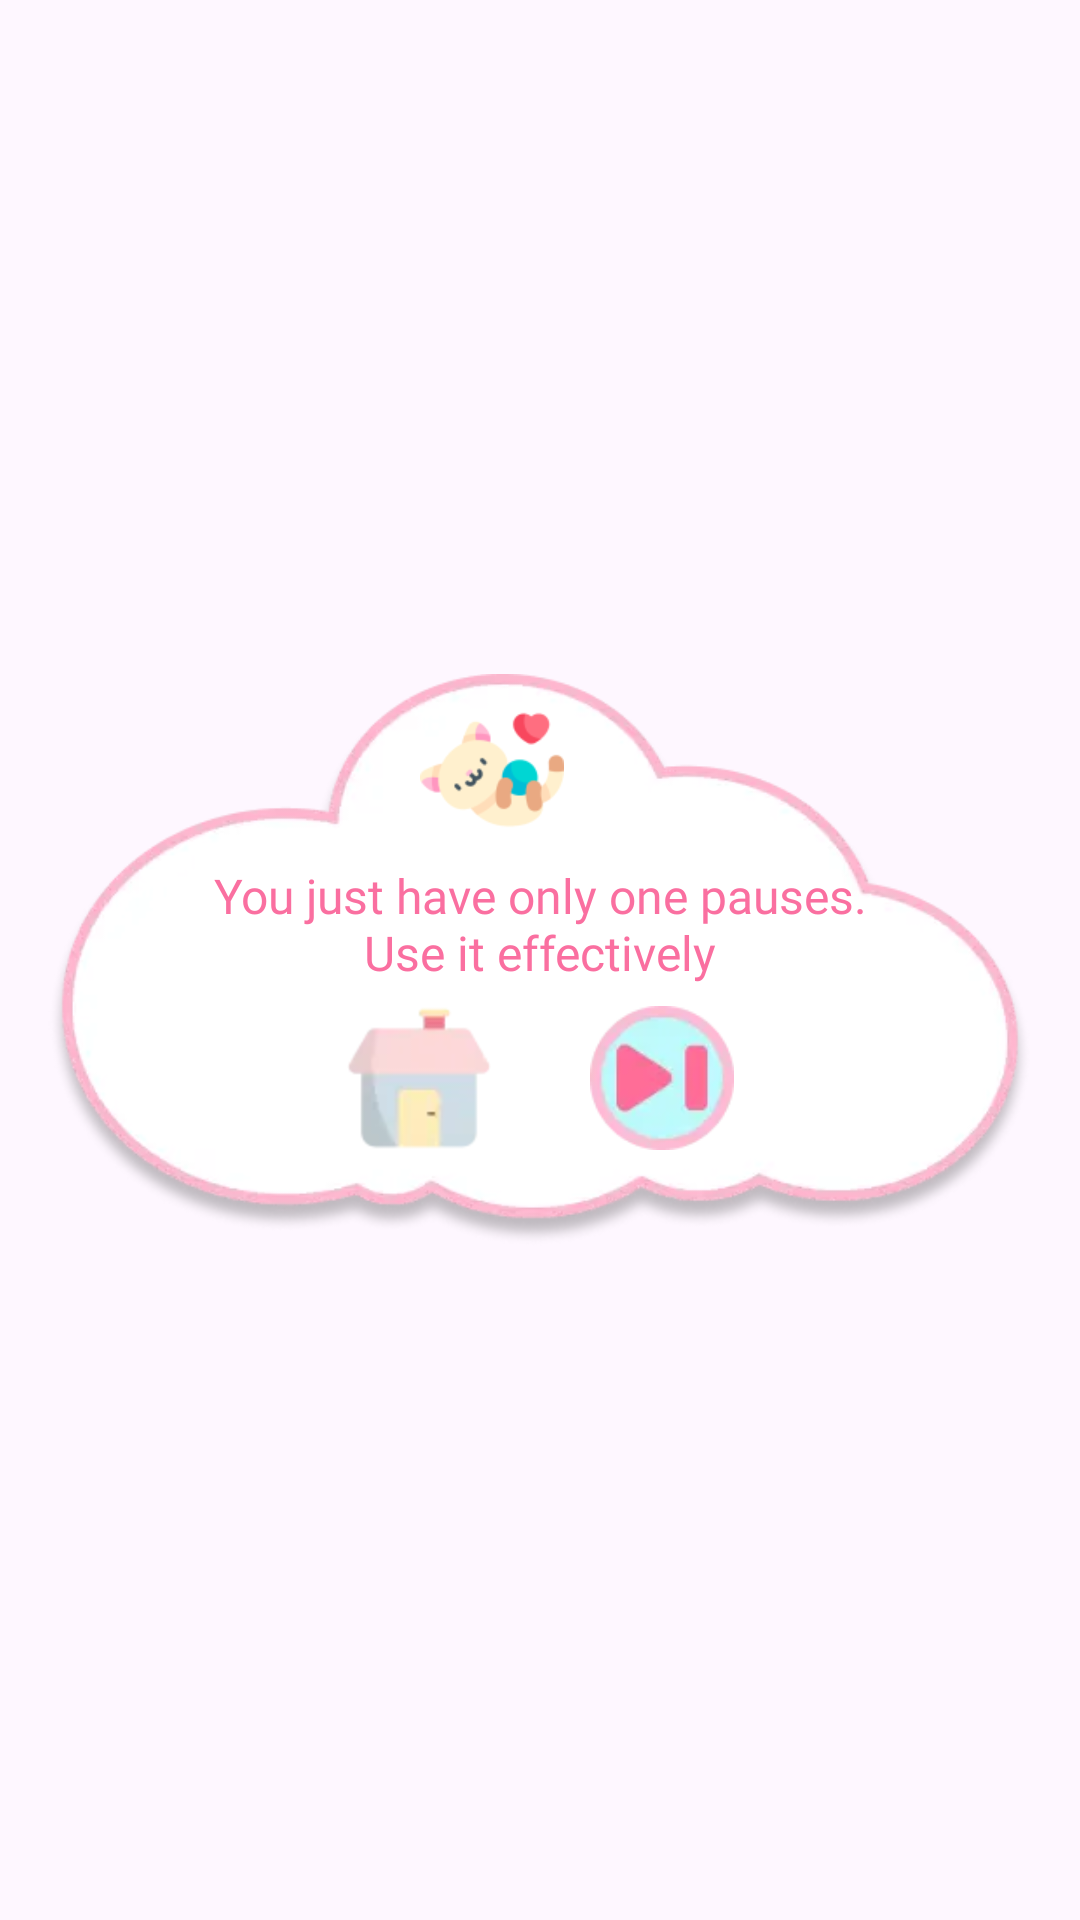

Named icons in this screenshot (1080 x 1920) and their centers, (x=x, y=y):
cat with ball: (x=492, y=769)
home: (x=419, y=1078)
resume: (x=662, y=1078)
